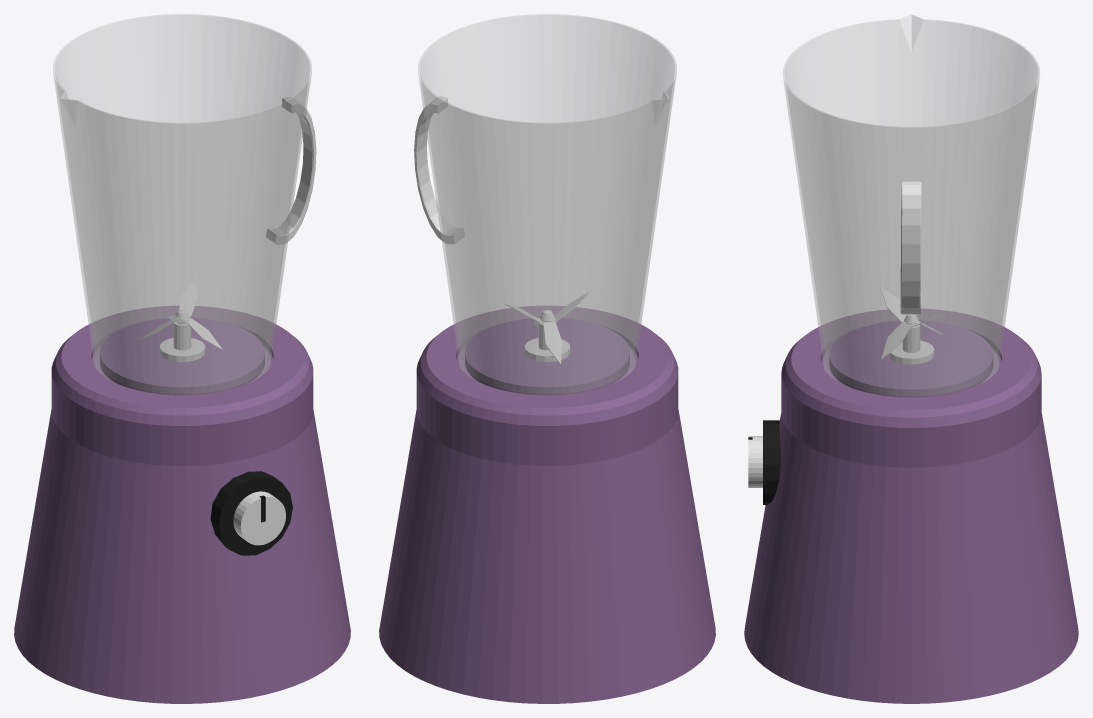
File: Blender.fbx
The picture shows the model from 3 angles, left to right: view 1: azimuth 30°, elevation 25°; view 2: azimuth 150°, elevation 25°; view 3: azimuth 270°, elevation 25°; orthographic projection.
Visible parts, largest first — view 1: Цилиндр, Куб; view 2: Цилиндр, Куб; view 3: Цилиндр, Куб.
Part boxes in pixels (x1,y1,x2,y2): Цилиндр: [14, 14, 350, 703]; Куб: [137, 282, 222, 349]; Цилиндр: [379, 14, 715, 703]; Куб: [505, 292, 589, 364]; Цилиндр: [744, 14, 1078, 703]; Куб: [880, 287, 942, 359].
Size of the model in its own units: 1.38 by 2.54 by 1.38.
